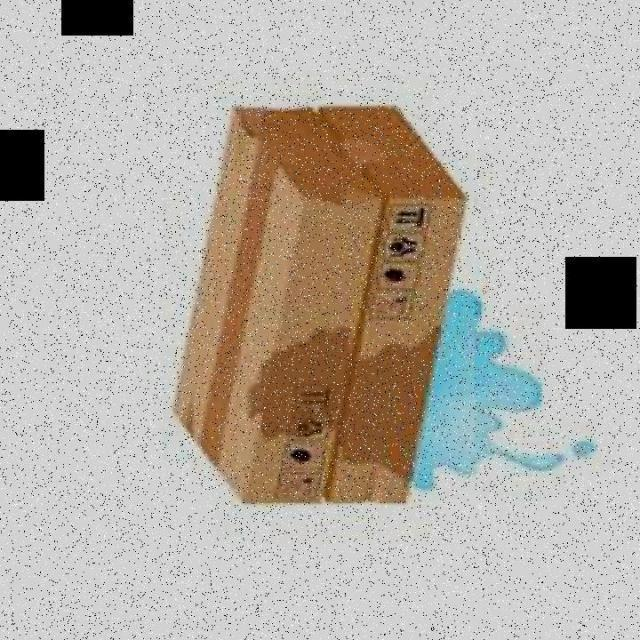box: (170, 101, 474, 507)
